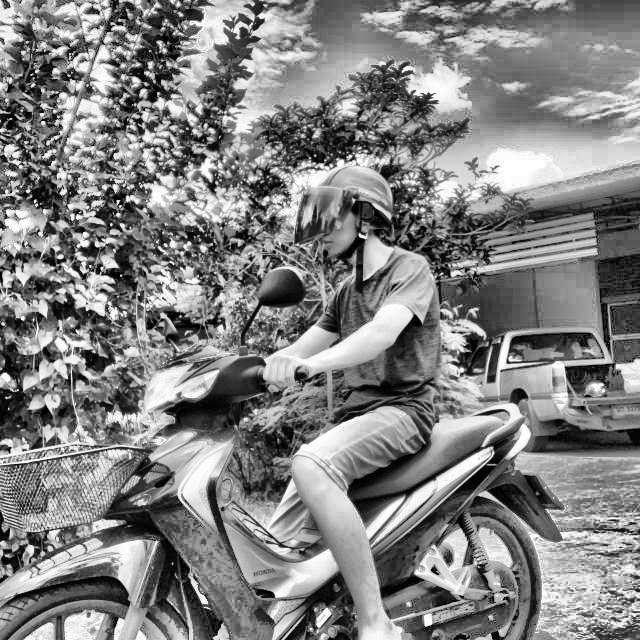Helmet: (292, 161, 396, 262)
